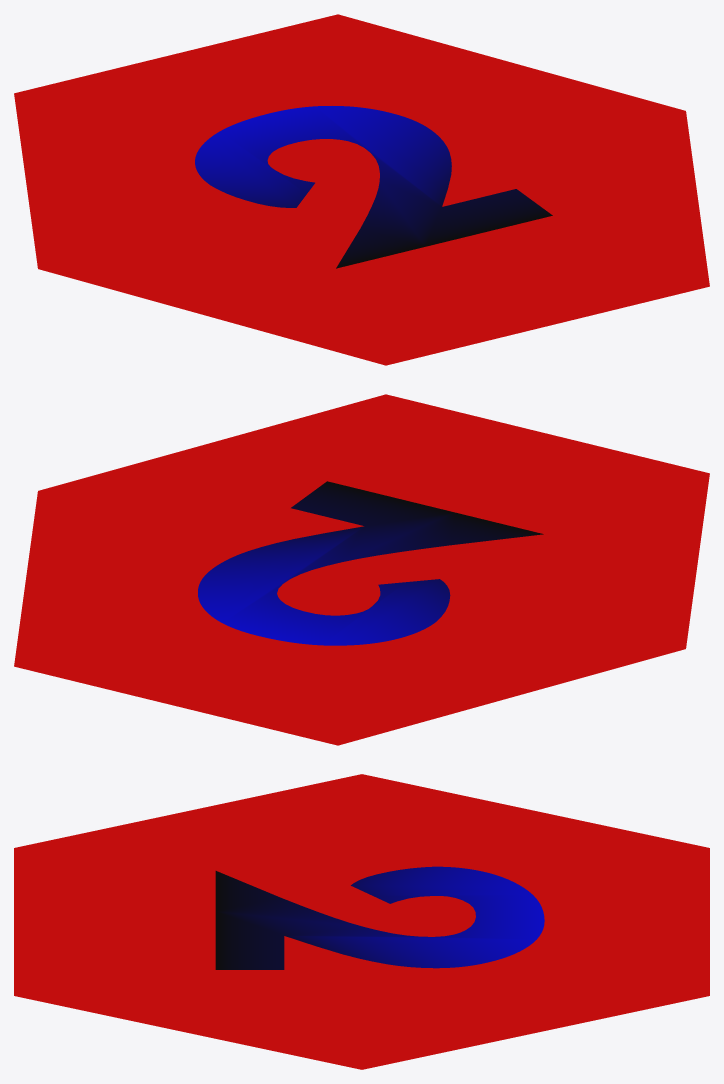
Rendered from SM_Number_2.fbx.
3 views of the same model, one above another, from view 1: azimuth 30°, elevation 25°; view 2: azimuth 150°, elevation 25°; view 3: azimuth 270°, elevation 25° (orthographic). The views are drawn at different scales.
Visible parts, largest first — view 1: FBX_OUT; view 2: FBX_OUT; view 3: FBX_OUT.
Boxes of the visible parts, box(x1,y1,x2,y2) form: FBX_OUT: box(14, 14, 709, 365); FBX_OUT: box(14, 394, 709, 745); FBX_OUT: box(14, 774, 709, 1069).
Bounding box in the file's own units: 50 × 0.2917 × 49.71.
